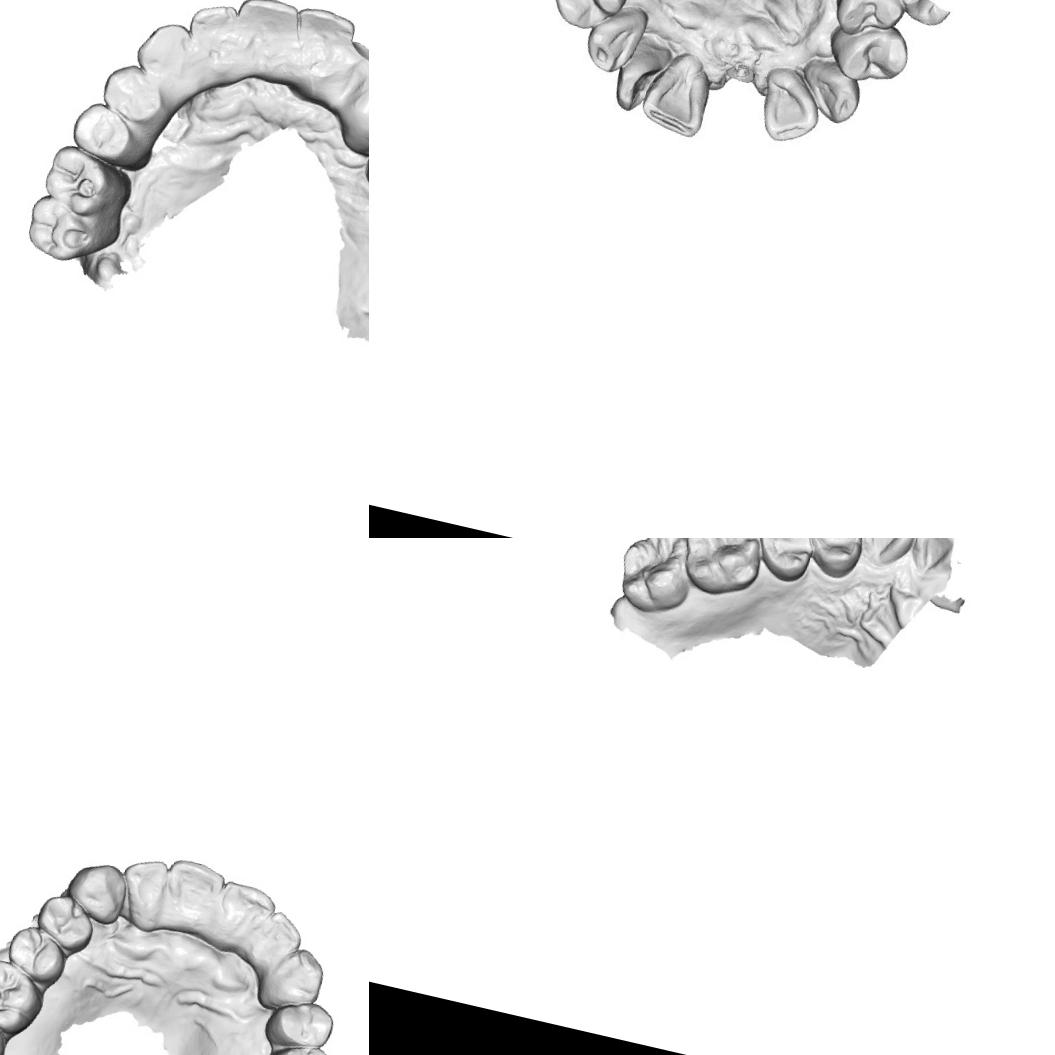canine: (253, 940, 330, 1020), (128, 15, 204, 92), (579, 3, 648, 82), (60, 856, 132, 928), (801, 62, 866, 128), (340, 63, 369, 155), (852, 538, 925, 571)
incisor: (279, 1, 359, 103), (640, 48, 712, 136), (226, 0, 307, 78), (753, 68, 827, 149), (156, 854, 228, 936), (210, 879, 278, 960), (111, 852, 171, 934), (243, 906, 308, 980), (180, 0, 248, 70), (610, 36, 668, 116), (325, 34, 369, 116)
molar: (20, 190, 123, 273), (606, 538, 706, 622), (39, 142, 139, 224), (676, 538, 774, 600), (0, 954, 51, 1041)
premolar: (94, 59, 175, 133), (828, 24, 915, 89), (64, 100, 143, 168), (1, 921, 72, 993), (29, 888, 100, 958), (259, 993, 338, 1055), (748, 538, 820, 587), (831, 0, 909, 40), (801, 538, 870, 582), (545, 0, 627, 37), (258, 1036, 336, 1055)
